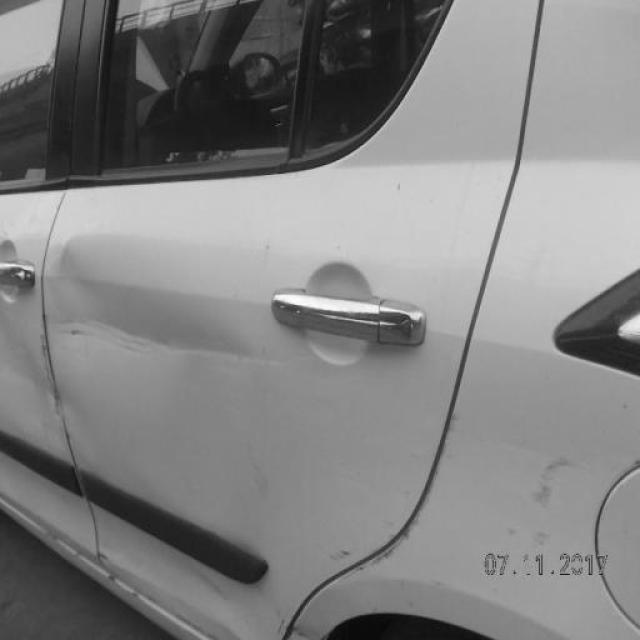dent: (48, 233, 262, 361), (0, 325, 72, 434), (511, 453, 569, 548)
